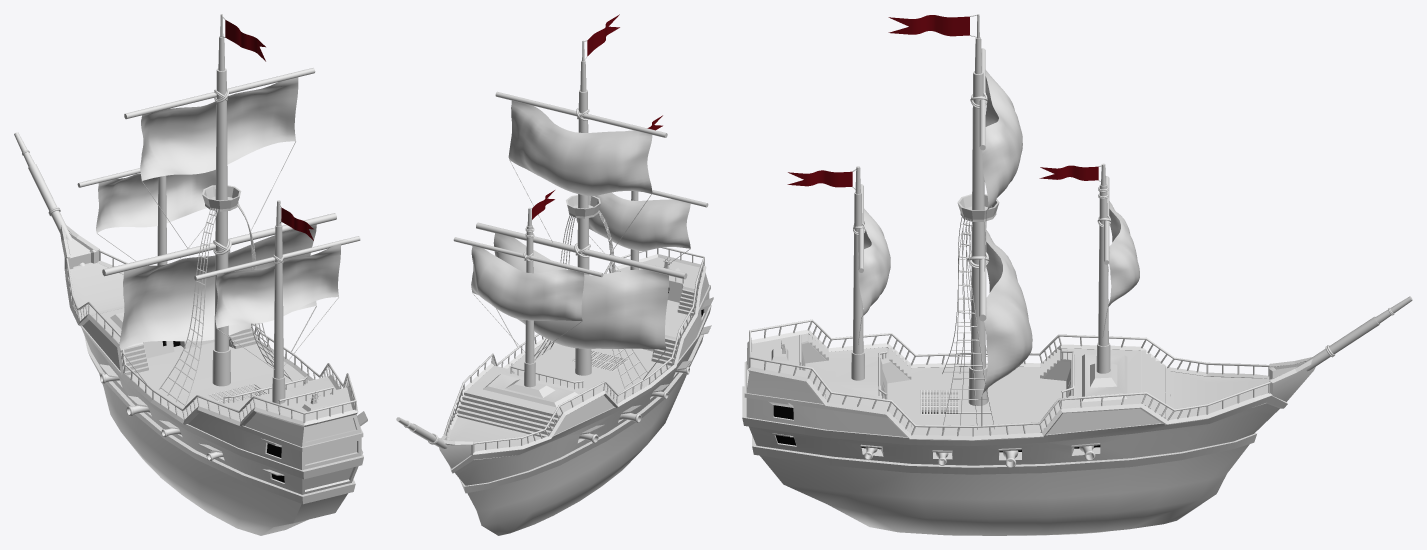
File: animations.fbx
3 renders of one model, left to right at view 1: azimuth 30°, elevation 25°; view 2: azimuth 150°, elevation 25°; view 3: azimuth 270°, elevation 25°, orthographic. The views are drawn at different scales.
Visible parts, largest first — view 1: Ship Body, Sails, Masts, Trim, Railings.004, Plane.001, Stairs, Railings.006, Flags, Crows Nest, Ropes, Plane (+2 smaller); view 2: Ship Body, Sails, Masts, Stairs, Trim, Railings.004, Railings.006, Flags, Crows Nest, Plane.001, Plane.002, Ropes (+2 smaller); view 3: Ship Body, Sails, Masts, Trim, Railings.004, Stairs, Flags, Railings.006, Plane, Plane.002.
Part boxes in pixels (x1,y1,x2,y2): Ship Body: (65, 231, 367, 535); Sails: (96, 77, 340, 350); Masts: (14, 14, 360, 403); Trim: (60, 224, 358, 426); Railings.004: (66, 250, 356, 414); Plane.001: (159, 208, 218, 407); Stairs: (90, 305, 346, 408); Railings.006: (66, 252, 356, 422); Flags: (225, 20, 313, 240); Crows Nest: (202, 185, 241, 211); Ropes: (97, 141, 338, 384); Plane: (237, 202, 292, 381); Ship Body: (439, 257, 713, 535); Sails: (471, 100, 690, 349); Masts: (396, 40, 708, 448); Stairs: (457, 272, 696, 437); Trim: (440, 254, 706, 455); Railings.004: (443, 247, 704, 444); Railings.006: (445, 248, 704, 452); Flags: (532, 14, 662, 219); Crows Nest: (566, 195, 600, 218); Plane.001: (598, 210, 647, 389); Plane.002: (570, 350, 629, 371); Ropes: (472, 160, 690, 379); Ship Body: (742, 333, 1315, 535); Sails: (858, 70, 1139, 394); Masts: (851, 14, 1412, 405); Trim: (747, 329, 1312, 440); Railings.004: (749, 319, 1270, 427); Stairs: (809, 334, 1170, 433); Flags: (787, 15, 1098, 187); Railings.006: (749, 321, 1269, 436); Plane: (942, 217, 995, 430); Plane.002: (920, 390, 958, 414).
Size of the model in its own units: 583 by 1183 by 1389.
